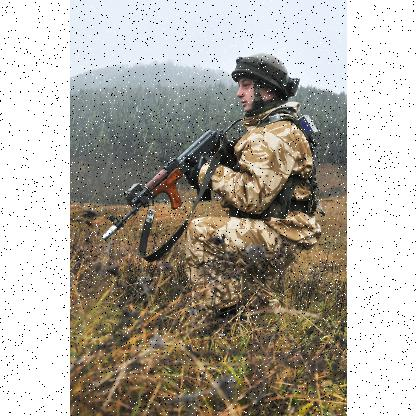gun: (100, 113, 240, 239)
